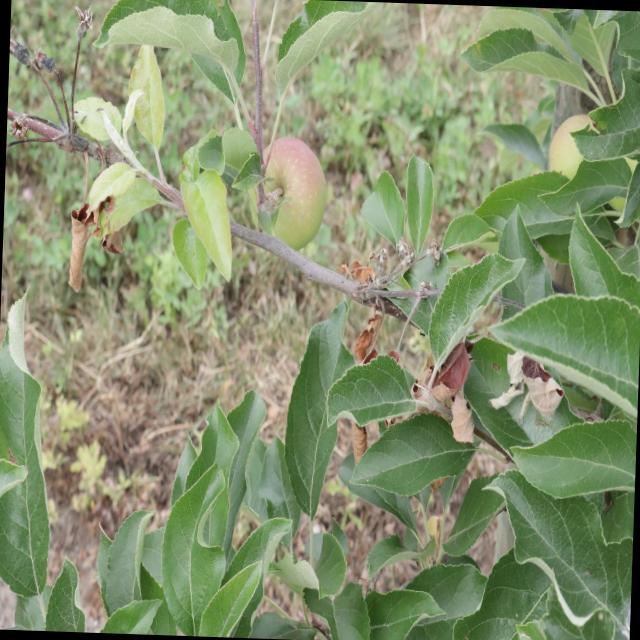-FireBlight-: (483, 327, 561, 427), (413, 338, 474, 445), (63, 204, 96, 285), (350, 298, 374, 357)
